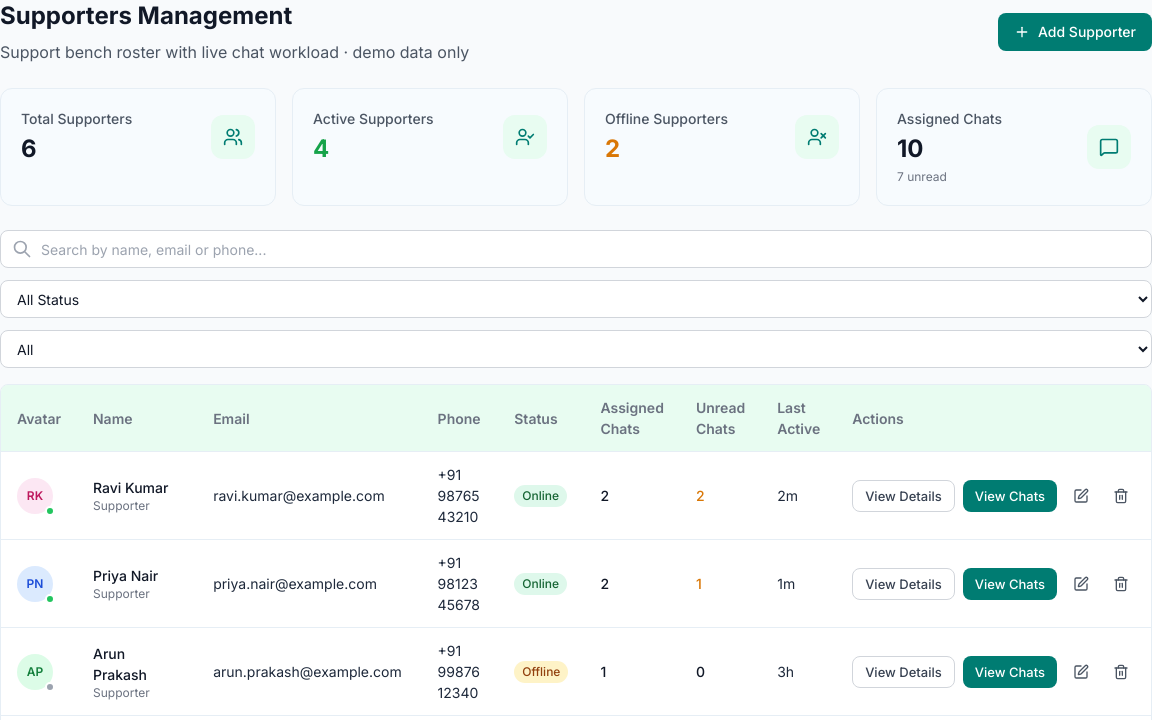
SupportersPage › opens the details drawer for a supporter
The image size is (1152, 720).
What coordinates should you click on to do the following:
click the button "View Details" in the row of "Ravi Kumar"
I would click on:
 (904, 496)
Its box is [852,480,955,512].
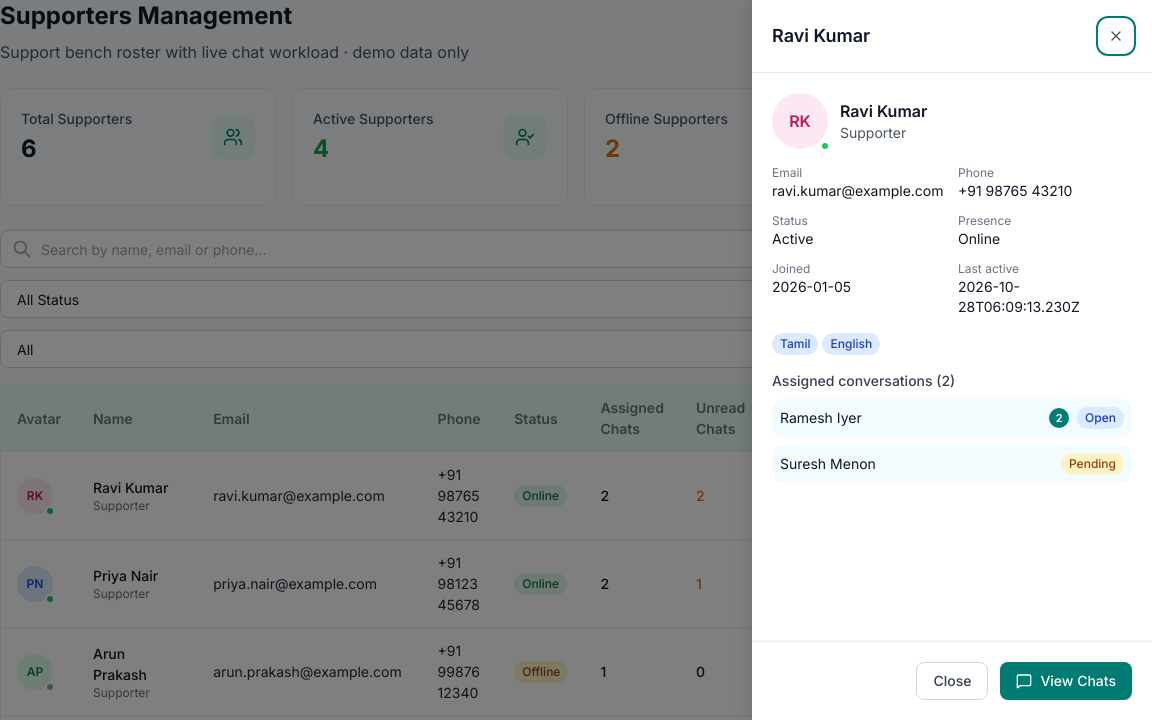
Expected: the text "Assigned conversations (2)" is shown, [772,372,955,389]
